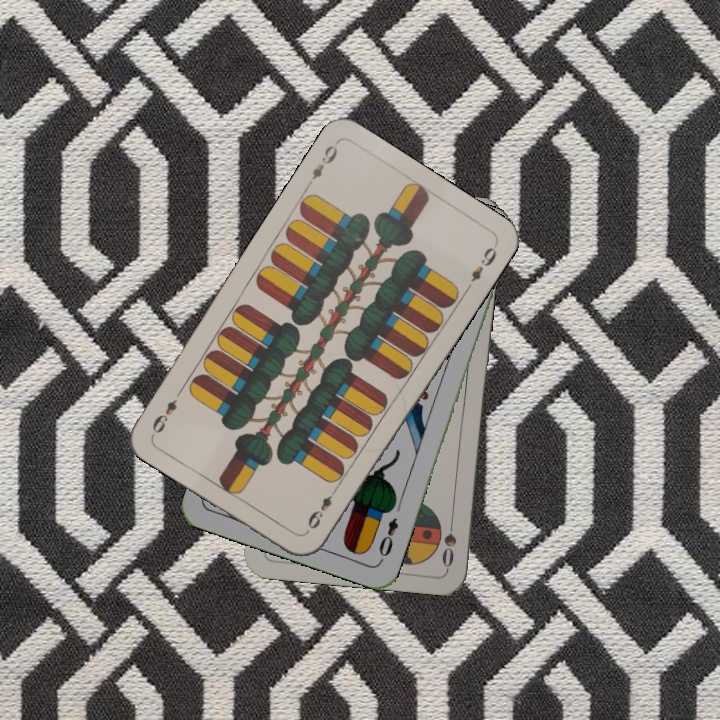E9: (302, 140, 341, 191), (303, 483, 341, 532)
EO: (374, 513, 401, 564)
SO: (437, 511, 459, 570)
